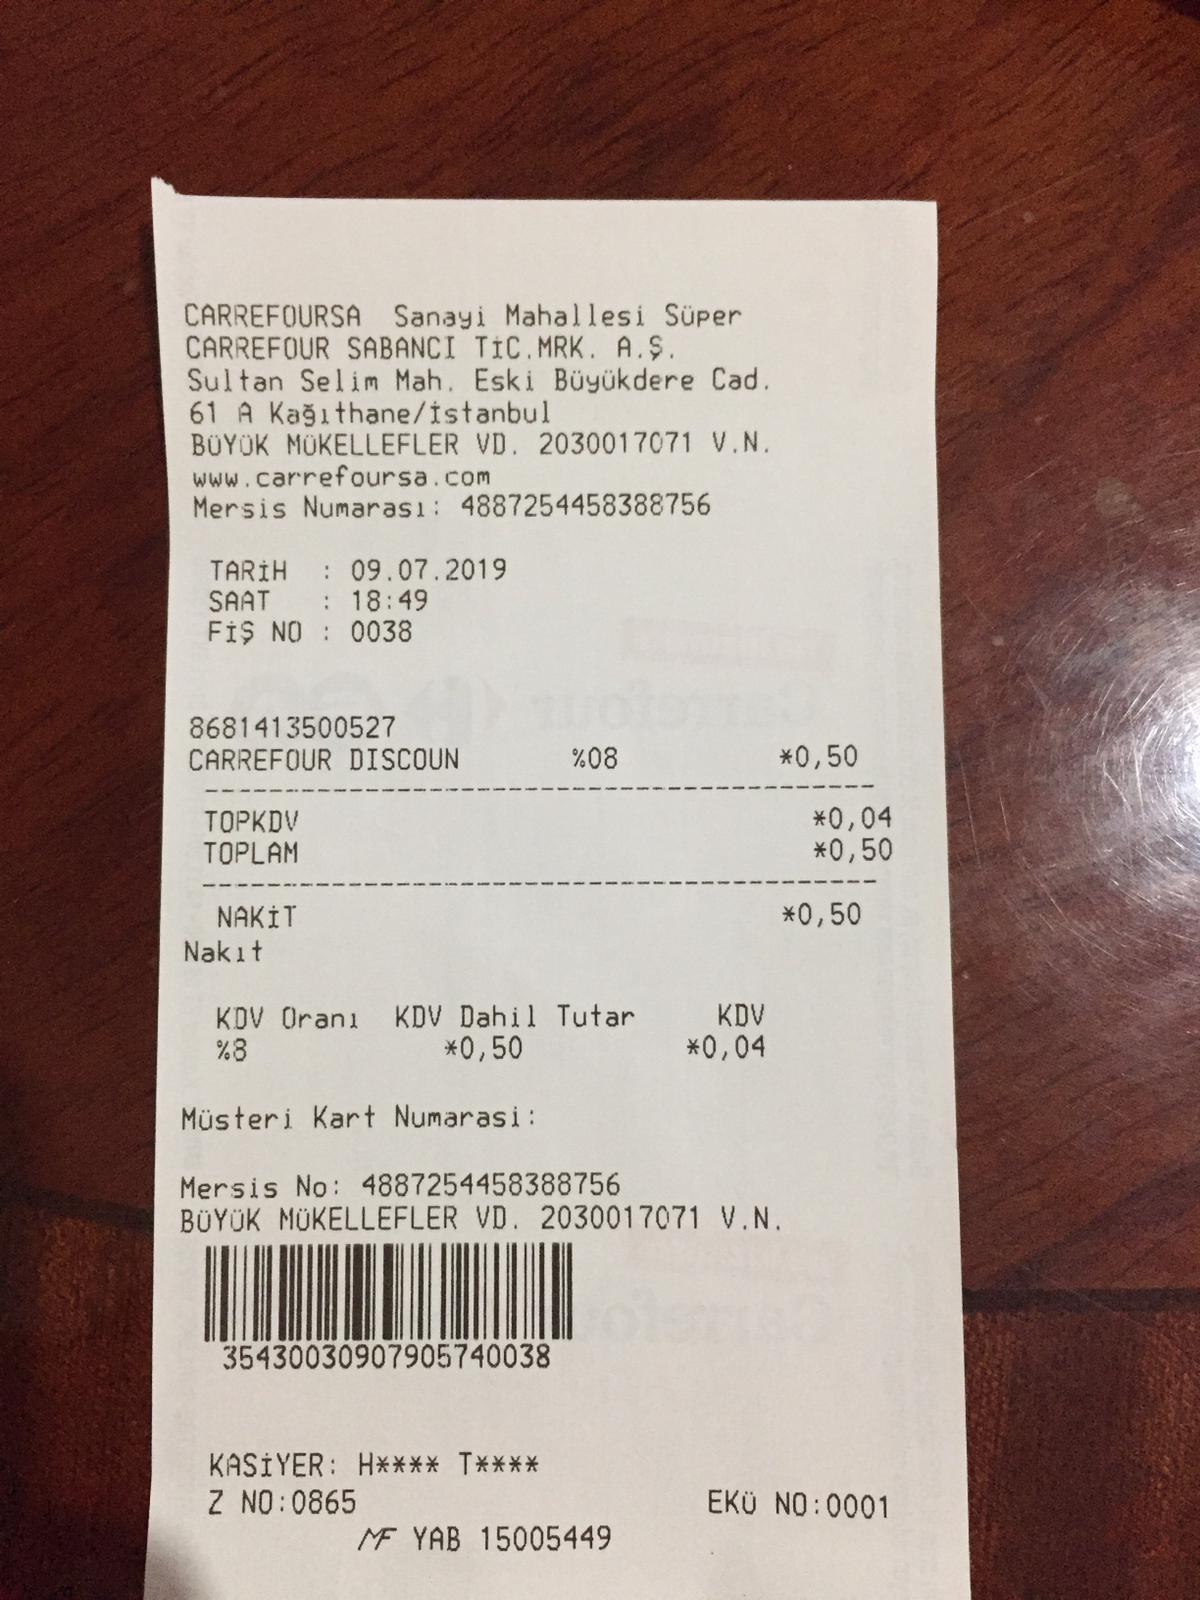total: (202, 835, 906, 872)
